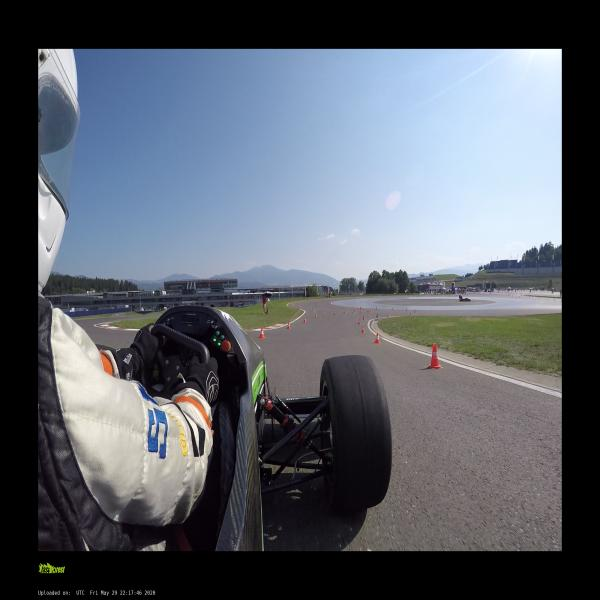orange_cone: (428, 343, 442, 369), (258, 328, 265, 338), (375, 333, 380, 343), (362, 326, 365, 333), (287, 322, 290, 329), (304, 318, 306, 322), (358, 320, 360, 324), (410, 311, 412, 315), (315, 314, 317, 318), (376, 314, 378, 318), (387, 313, 389, 316), (334, 311, 336, 314), (363, 316, 364, 320), (324, 312, 325, 316)
